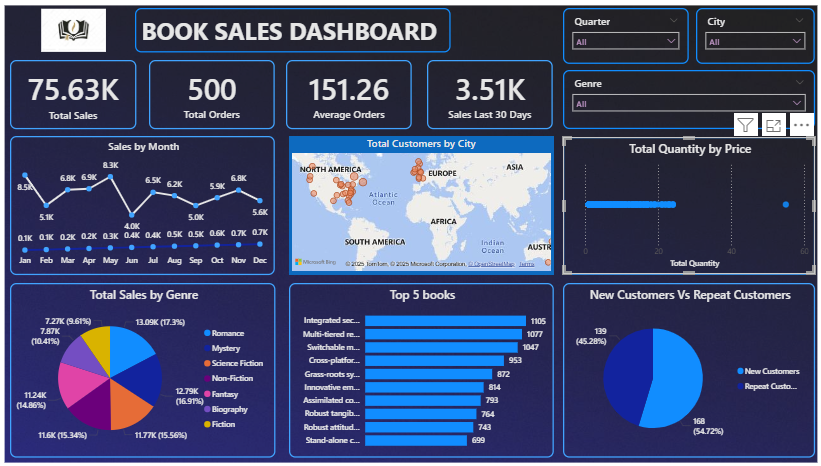

What the dashboard file says about the page in this screenshot:
{"tool":"powerbi","page":{"name":"Page 1","canvas":[1400,800],"ordinal":0},"visuals":[{"type":"card","fields":{"Values":["Measures (2).Total Sales"]},"box":[68.3,122.7,198.9,108.7],"z":0},{"type":"card","fields":{"Values":["Measures (2).Total Orders"]},"box":[286.8,122.8,198.4,108.7],"z":1000},{"type":"card","fields":{"Values":["Measures (2).Average Orders"]},"box":[502.5,122.8,198.4,108.7],"z":2000},{"type":"card","fields":{"Values":["Measures (2).Sales Last 30 Days"]},"box":[724.6,122.8,198.4,108.7],"z":3000},{"type":"lineChart","title":"Sales by Month","fields":{"Y":["Measures (2).Total Sales","Sum(Date.Month)"],"Category":["Date.Month Name"]},"box":[68.3,242.1,417.3,218.9],"z":4000},{"type":"barChart","title":"Top 5 books","fields":{"Category":["Books.Title"],"Y":["Measures (2).Total Sales"]},"box":[506.7,473.3,416.7,275],"z":5000},{"type":"pieChart","fields":{"Category":["Books.Genre"],"Y":["Measures (2).Total Sales"]},"box":[68.3,473.3,418.3,275],"z":6000},{"type":"map","fields":{"Category":["Customers.City"],"Size":["Measures (2).Total Customers"]},"box":[507.3,242.6,416.7,218.3],"z":7000},{"type":"pieChart","title":"New Customers Vs Repeat Customers","fields":{"Y":["Measures (2).New Customers","Measures (2).Repeat Customers"]},"box":[938.3,473.3,396.7,275],"z":8000},{"type":"scatterChart","fields":{"Category":["Books.Price"],"X":["Measures (2).Total Quantity"]},"box":[938.3,243.3,396.7,216.7],"z":9000},{"type":"slicer","fields":{"Values":["Books.Genre"]},"box":[938.3,138.3,396.7,93.3],"z":10000},{"type":"slicer","fields":{"Values":["Orders.Quarter"]},"box":[938.3,41.7,198.3,88.3],"z":11000},{"type":"slicer","fields":{"Values":["Customers.City"]},"box":[1148.3,41.7,186.7,88.3],"z":12000},{"type":"textbox","box":[265,41.7,496.7,70],"z":13000},{"type":"image","box":[111.7,33.3,111.7,85],"z":14000}]}

Visuals, with their boxes in screenshot pixels (x1, y1, x2, y2), scaled from the page's 1400x800 canvas onto the 821x466 screenshot:
card - Measures (2).Total Sales: l=40, t=71, r=157, b=135
card - Measures (2).Total Orders: l=168, t=72, r=285, b=135
card - Measures (2).Average Orders: l=295, t=72, r=411, b=135
card - Measures (2).Sales Last 30 Days: l=425, t=72, r=541, b=135
"Sales by Month" lineChart: l=40, t=141, r=285, b=269
"Top 5 books" barChart: l=297, t=276, r=542, b=436
pieChart - Books.Genre x Measures (2).Total Sales: l=40, t=276, r=285, b=436
map - Customers.City x Measures (2).Total Customers: l=297, t=141, r=542, b=268
"New Customers Vs Repeat Customers" pieChart: l=550, t=276, r=783, b=436
scatterChart - Books.Price x Measures (2).Total Quantity: l=550, t=142, r=783, b=268
slicer - Books.Genre: l=550, t=81, r=783, b=135
slicer - Orders.Quarter: l=550, t=24, r=667, b=76
slicer - Customers.City: l=673, t=24, r=783, b=76
textbox: l=155, t=24, r=447, b=65
image: l=66, t=19, r=131, b=69
